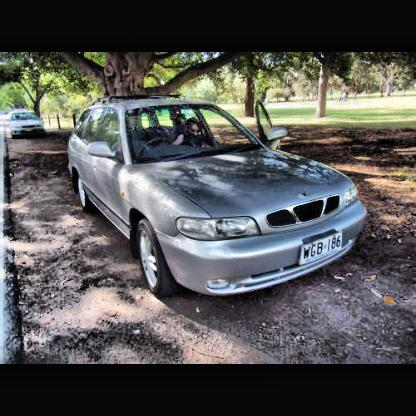Daewoo Nubira Wagon 2002: (69, 103, 371, 303)
